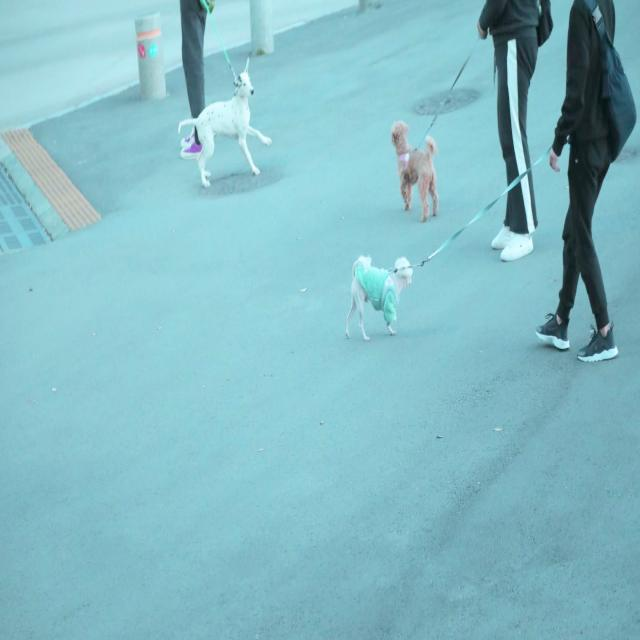Leashed_Dog: (344, 96, 599, 344), (389, 2, 516, 224), (176, 0, 272, 190)
